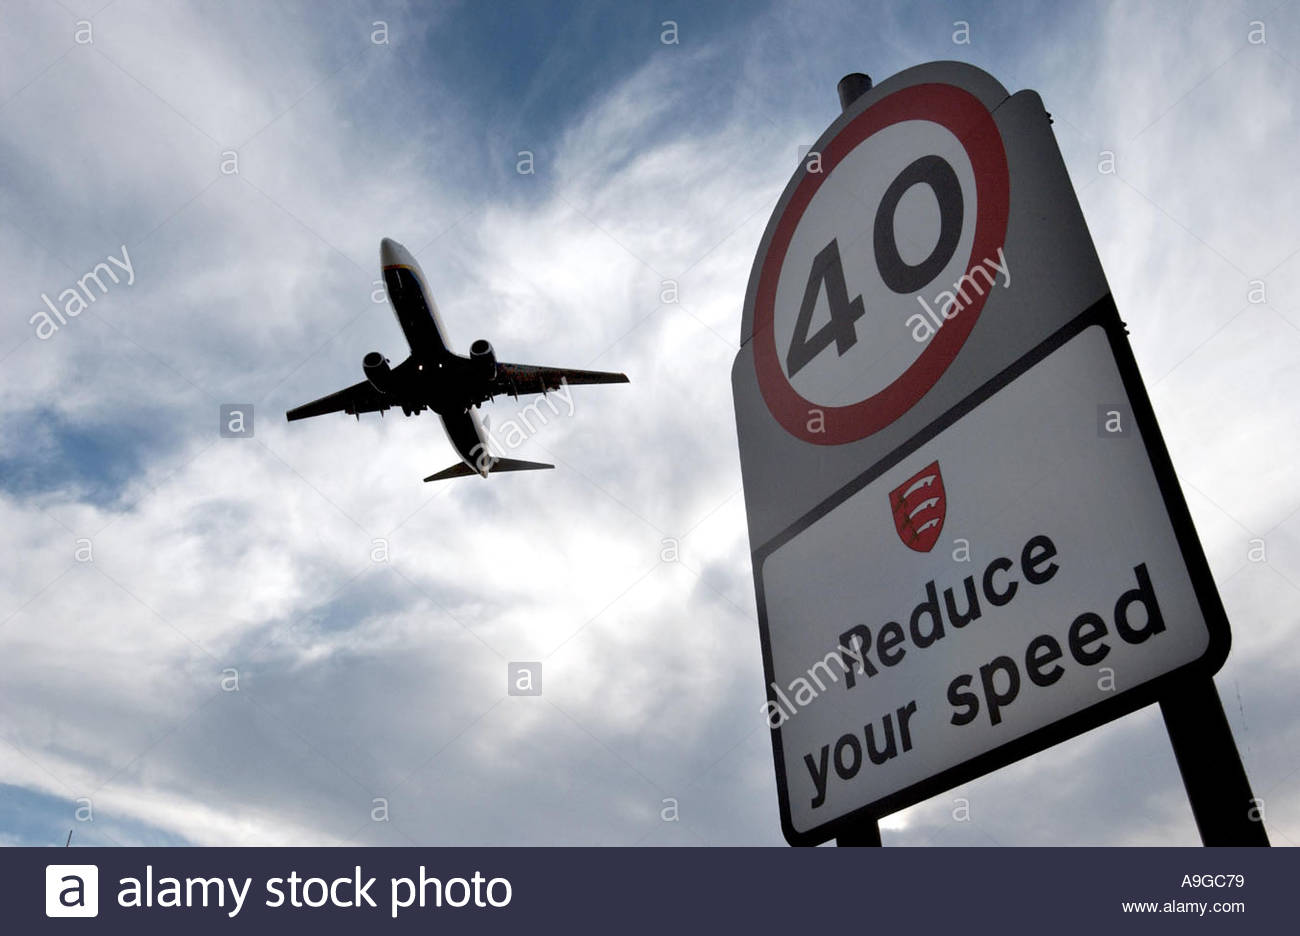Speed_limit_40km: (733, 87, 1014, 442)
